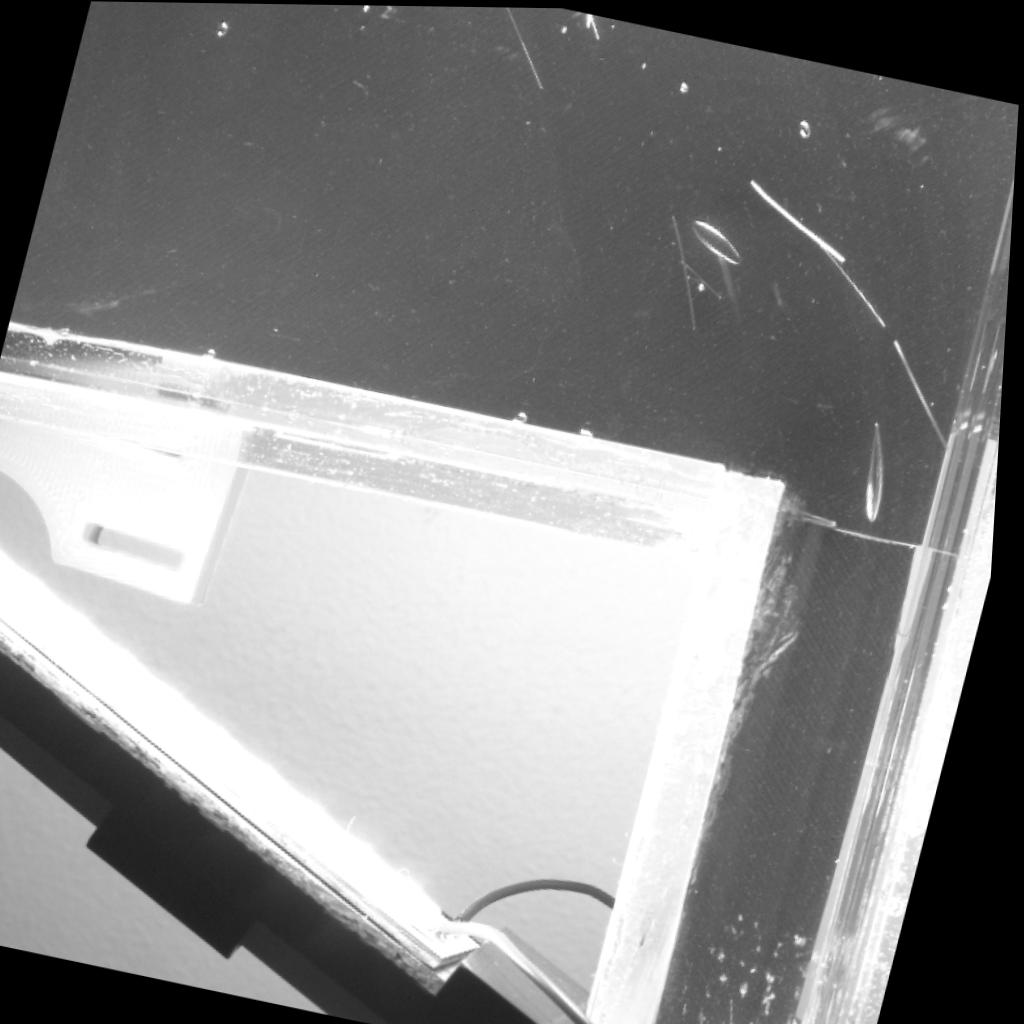Fiber: (746, 172, 853, 266), (894, 336, 960, 454), (499, 6, 553, 93), (827, 254, 890, 328), (669, 208, 700, 328), (679, 253, 726, 300), (738, 992, 748, 1024)
